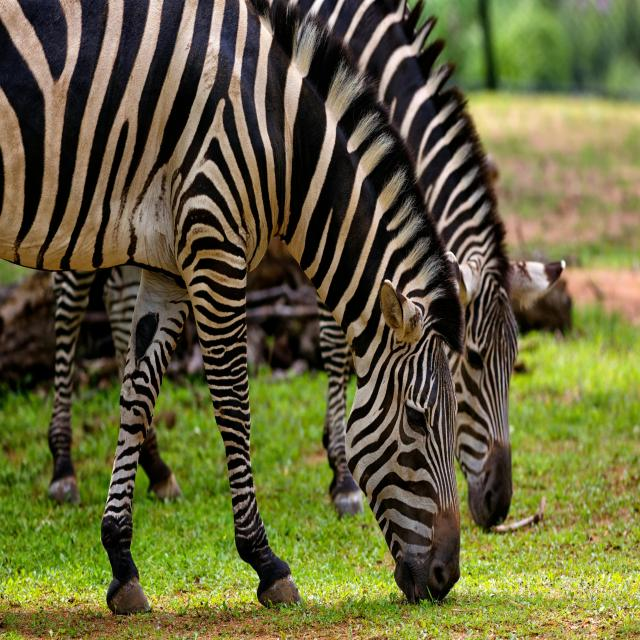Zebra: (0, 0, 463, 615), (0, 0, 521, 532)
